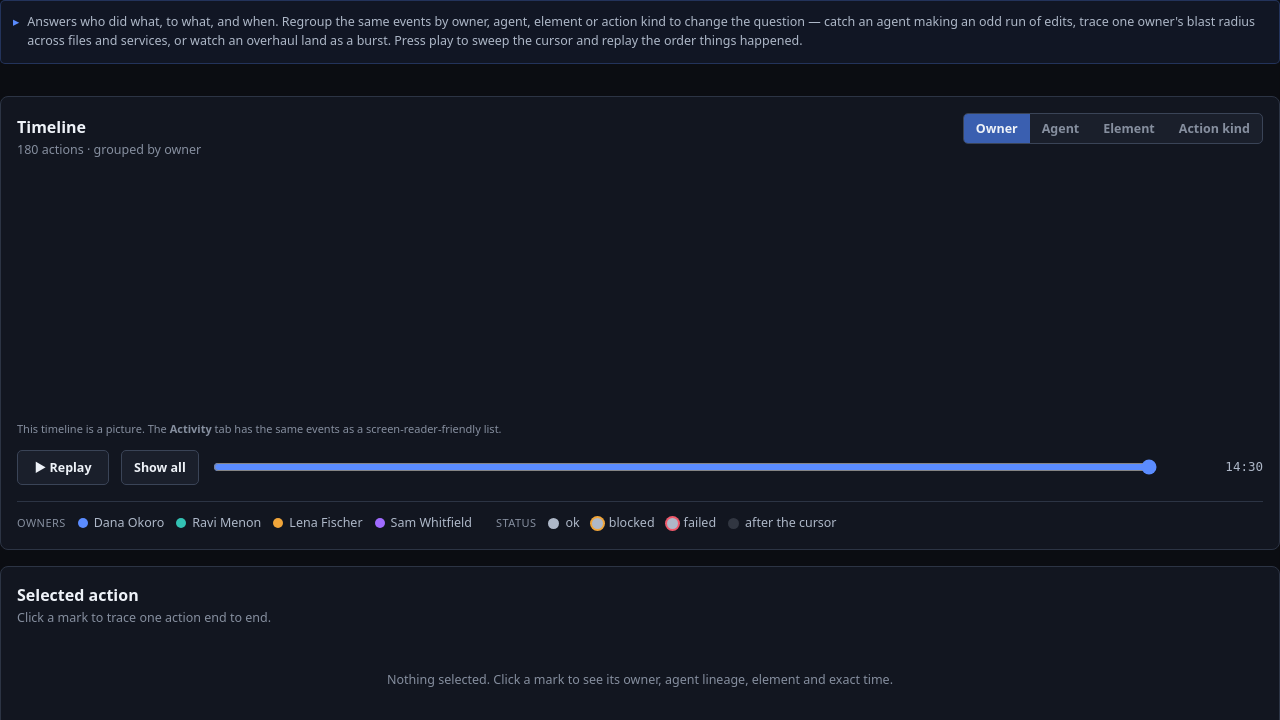
it: VisualiserTab — playback controls › "Show all" snaps the cursor back to the end
This screenshot has width=1280, height=720.
Set the slider named "Timeline position" to "200". click: (406, 467)
box: x1=213 y1=459 x2=1157 y2=475
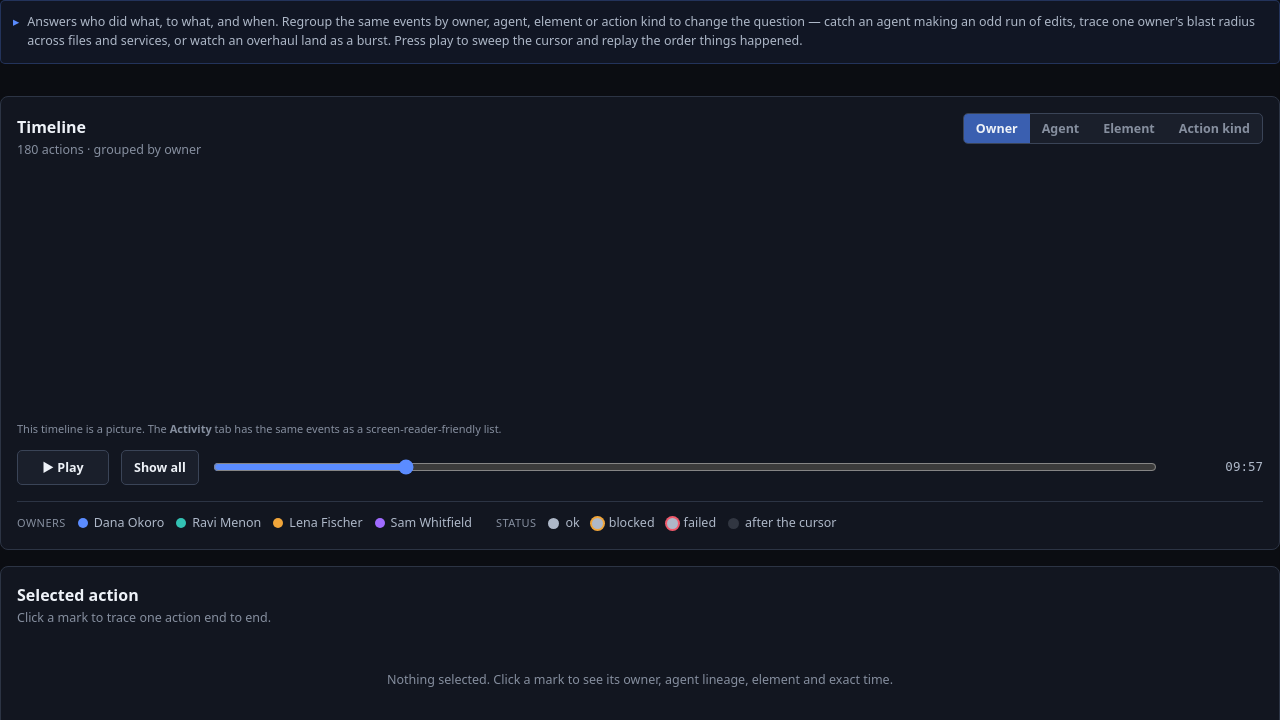
Click the button "Show all". click: click(160, 467)
box: x1=121 y1=450 x2=199 y2=485
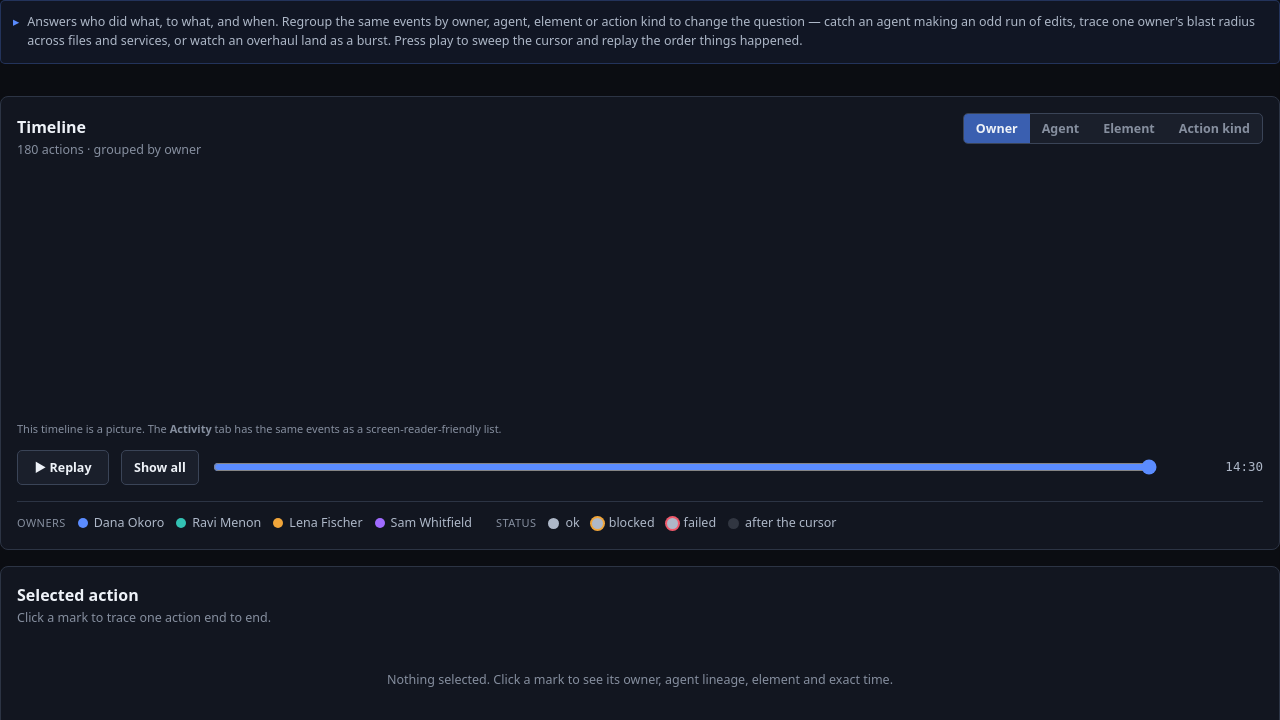
Check: the slider named "Timeline position" holds "1000", box x1=213 y1=459 x2=1157 y2=475
